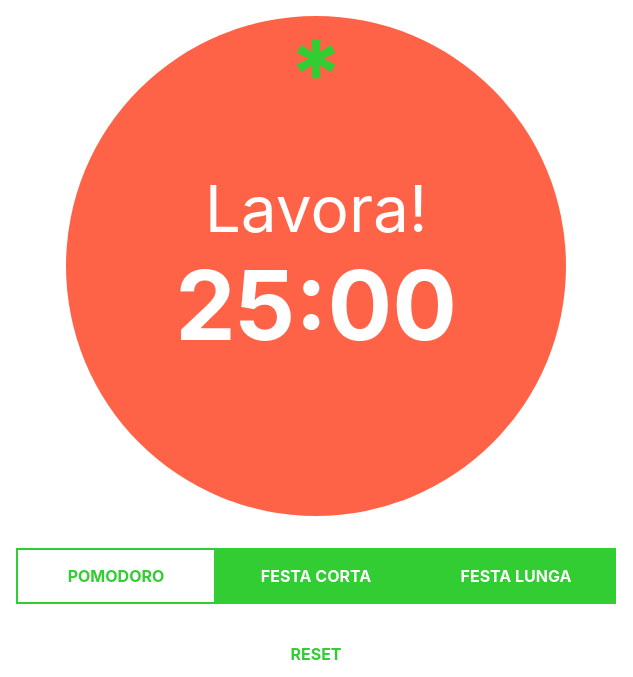
App › short break button shows 5 minutes
Click the button "Festa corta". click: (316, 576)
box: [216,548,416,604]
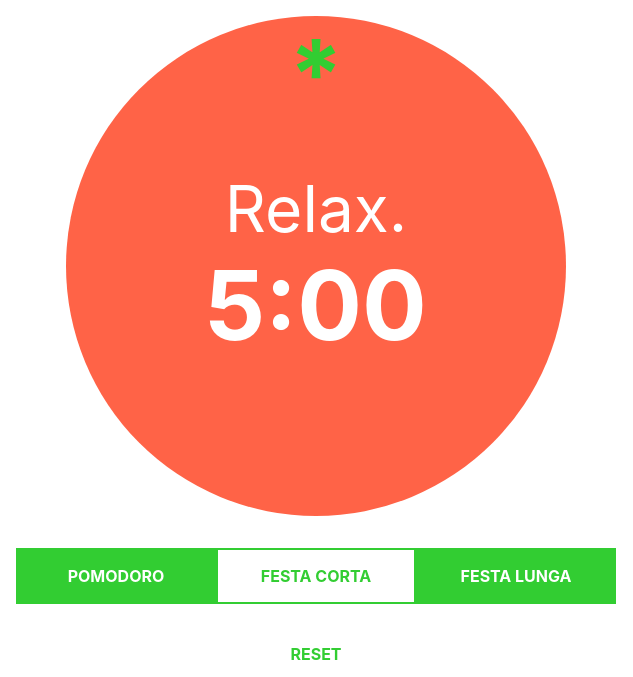
Expected: the button with test id "tomato-button" shows "5:00", [66,16,566,516]
Now the button with test id "tomato-button" shows "Relax", box [66,16,566,516]
